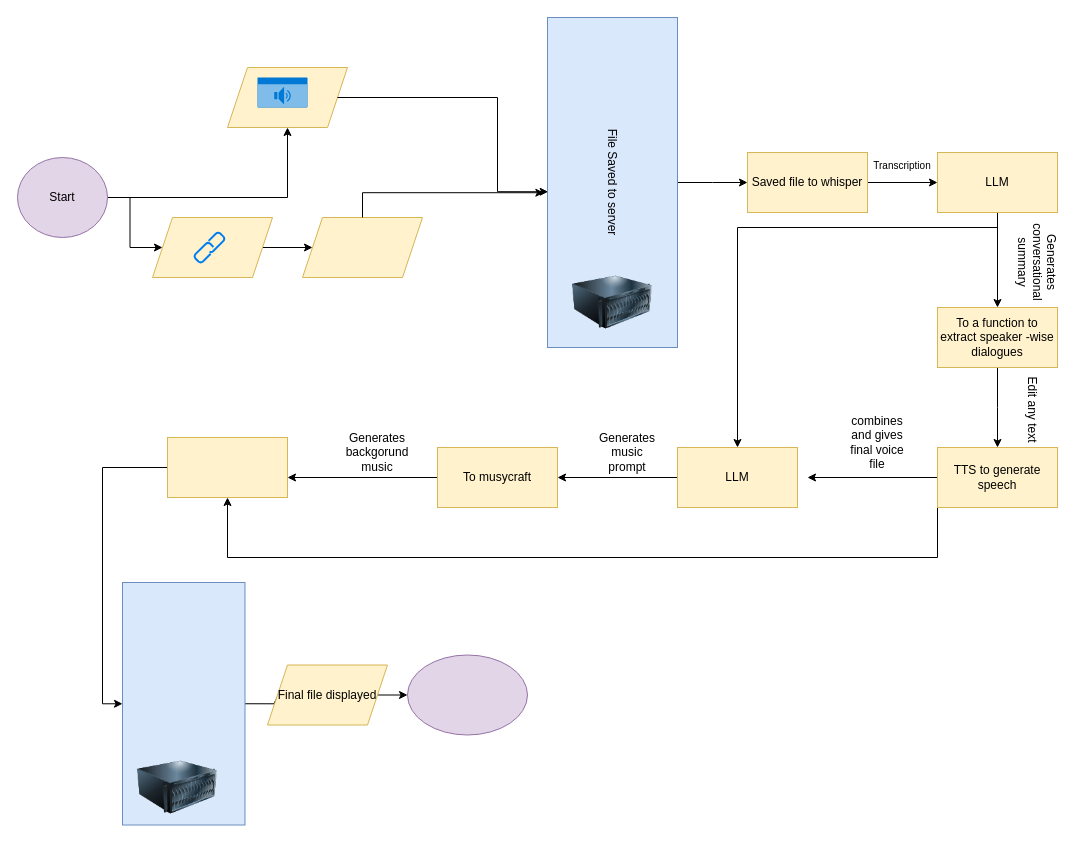
Some shapes in this 1076 by 845 pixel diagram are drawn without their labels. The shapes that lost their labels are listed below. From the top down, each one's centre as x and y in pixels, then its label:
At (282,92): "Audio".
At (362,247): "Download File".
At (227,467): "Combines voice and backgorund music".
At (183,703): "Stored final file".
At (467,694): "End".
